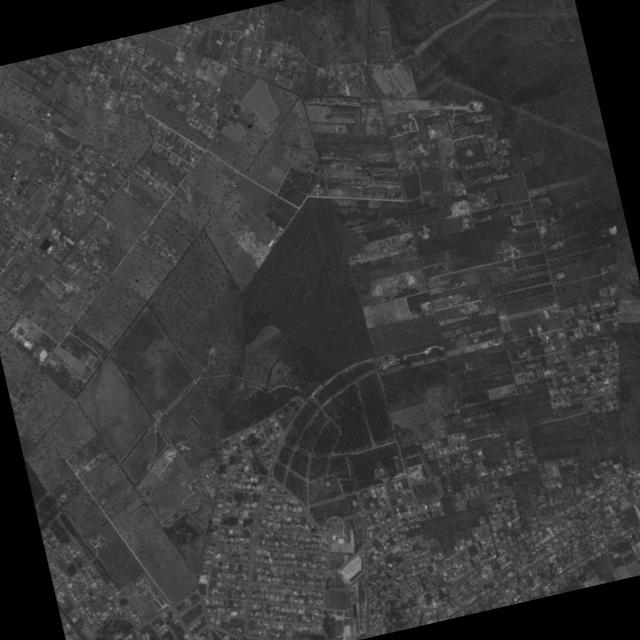storage-tank: (430, 128, 435, 134)
